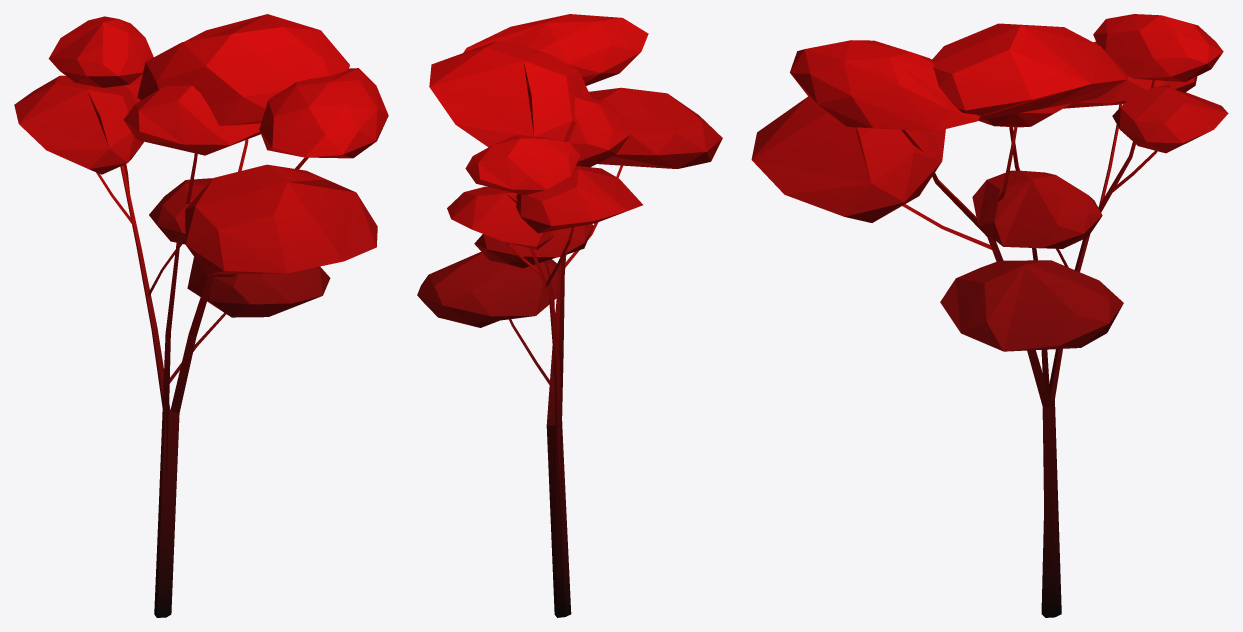
Rendered from TreeCedar07.fbx.
3 views of the same model, side by side, from view 1: azimuth 30°, elevation 25°; view 2: azimuth 150°, elevation 25°; view 3: azimuth 270°, elevation 25° (orthographic). The views are drawn at different scales.
Visible parts, largest first — view 1: TreeCedar07_LOD0; view 2: TreeCedar07_LOD0; view 3: TreeCedar07_LOD0.
Boxes of the visible parts, bbox=[...] form: TreeCedar07_LOD0: bbox=[14, 14, 388, 617]; TreeCedar07_LOD0: bbox=[417, 14, 722, 617]; TreeCedar07_LOD0: bbox=[751, 14, 1228, 617].
Size of what is drawn, in the model's own units: 461 by 949 by 664.
